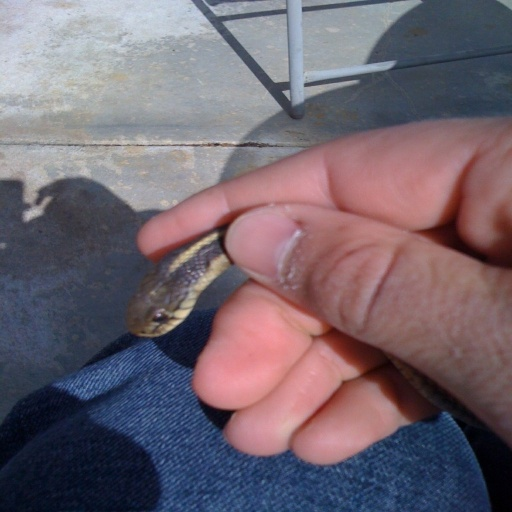hand: (183, 178, 480, 466)
